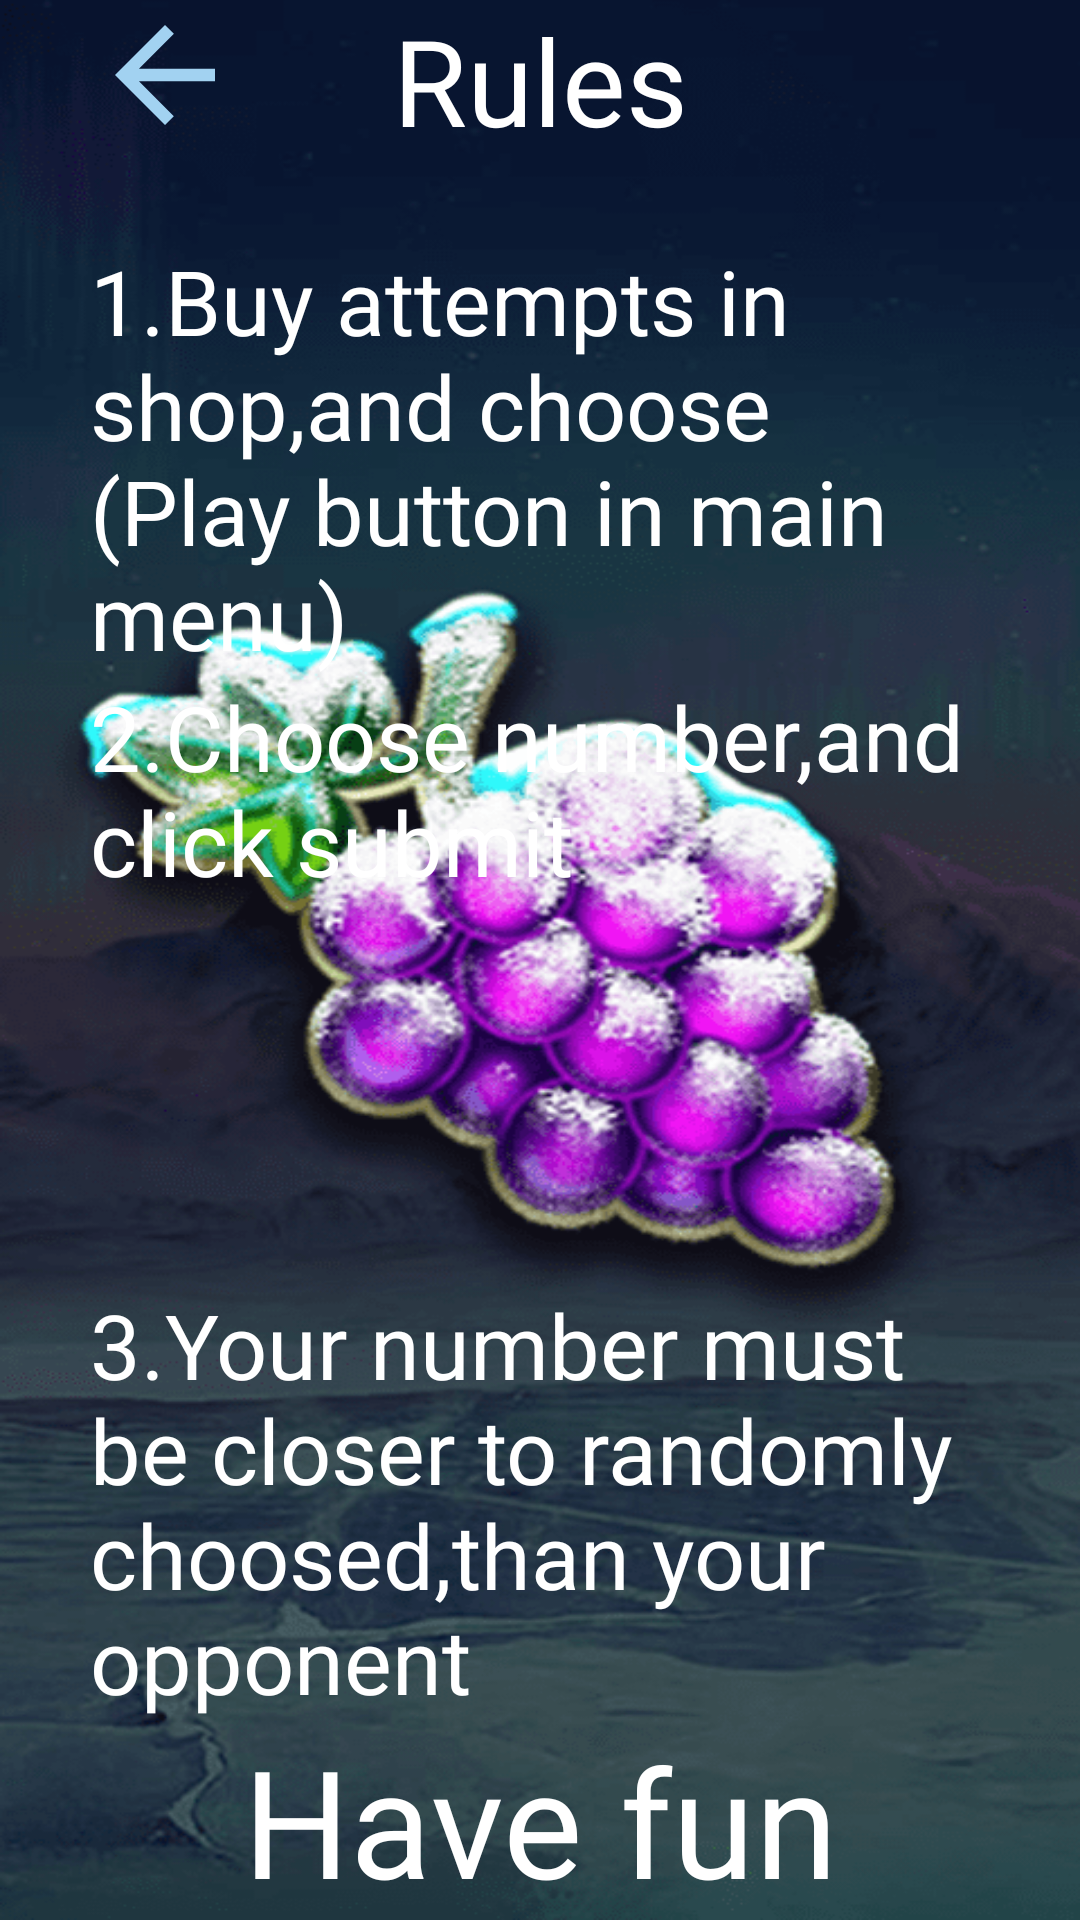

Where to tap for icons on this 1080w x 1920h app screen, as [x,y]:
Back: [165,75]
